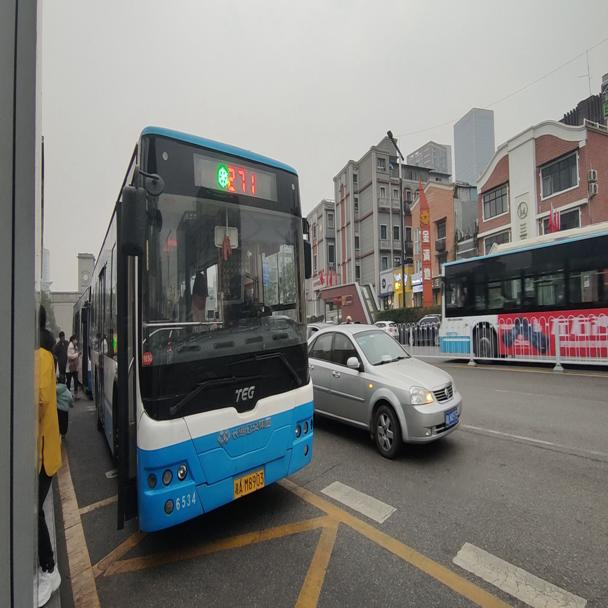bus: (87, 121, 315, 535), (436, 220, 605, 365)
screen: (225, 162, 261, 200)
